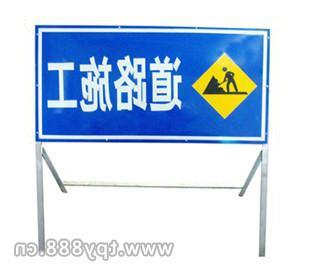sign: (35, 24, 271, 146)
